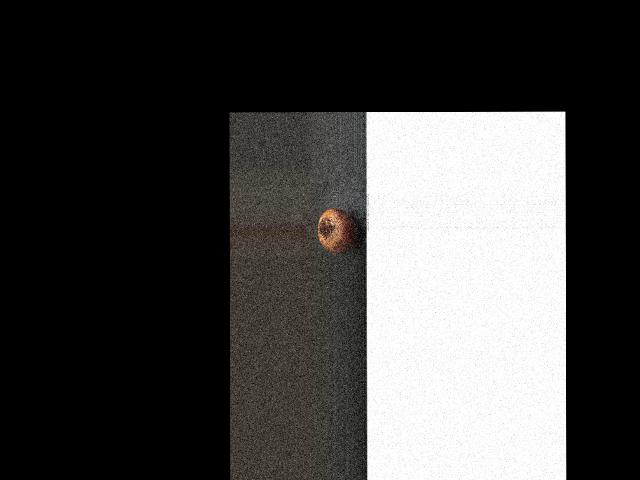beet: (318, 208, 357, 254)
